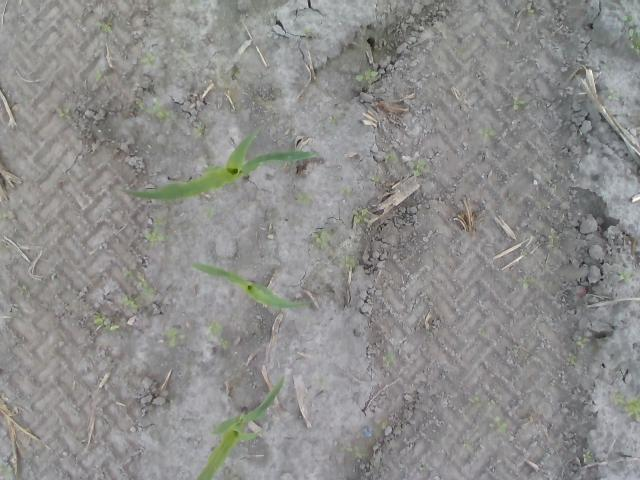Maize: (117, 133, 317, 204), (195, 374, 285, 480), (190, 262, 314, 312)
Weeds: (124, 270, 155, 298), (615, 393, 640, 423), (623, 15, 640, 50), (142, 216, 164, 243), (334, 445, 364, 460), (148, 97, 167, 119), (94, 317, 120, 332), (354, 68, 378, 82), (310, 230, 328, 248), (352, 208, 368, 224), (478, 128, 496, 142), (412, 158, 426, 175), (339, 256, 357, 269), (166, 330, 178, 348), (120, 295, 136, 308), (296, 192, 313, 204), (56, 107, 72, 119), (576, 337, 592, 349), (517, 276, 531, 289), (512, 96, 525, 110), (141, 52, 156, 64), (497, 417, 508, 433), (209, 322, 225, 332), (96, 23, 112, 33), (218, 338, 230, 351), (382, 352, 393, 366), (339, 186, 351, 198), (566, 352, 576, 366), (469, 396, 481, 407), (621, 270, 630, 284), (95, 68, 104, 82), (194, 127, 206, 137), (386, 154, 396, 162), (370, 177, 380, 185), (582, 451, 593, 458), (528, 8, 534, 16)
